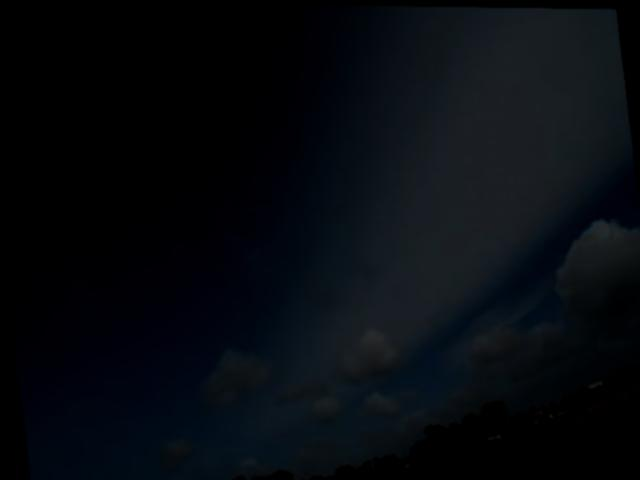uav: (252, 10, 271, 33)
